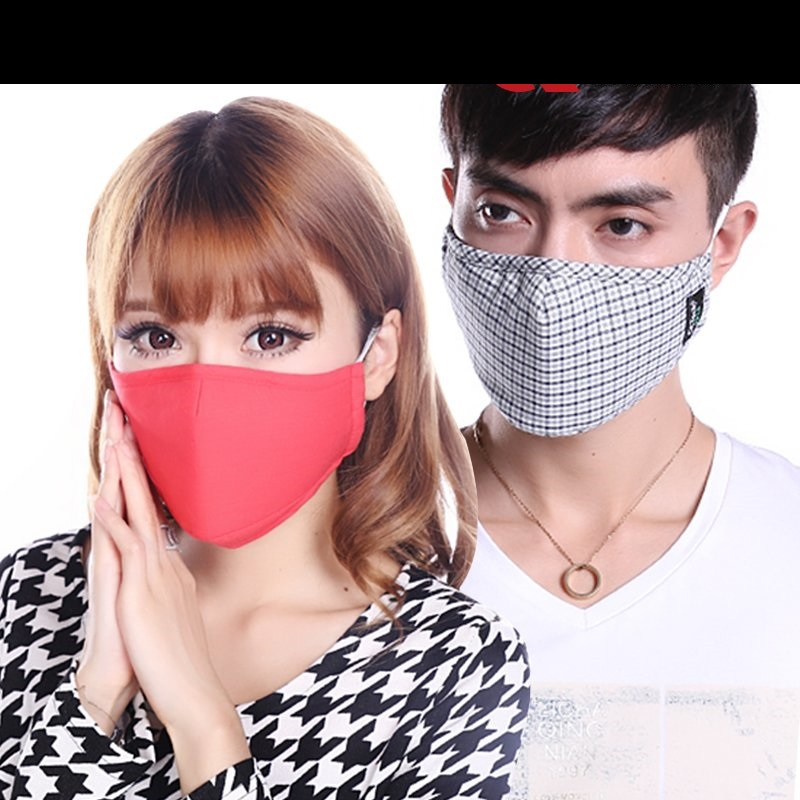face_mask: (99, 191, 361, 555), (447, 90, 713, 434)
